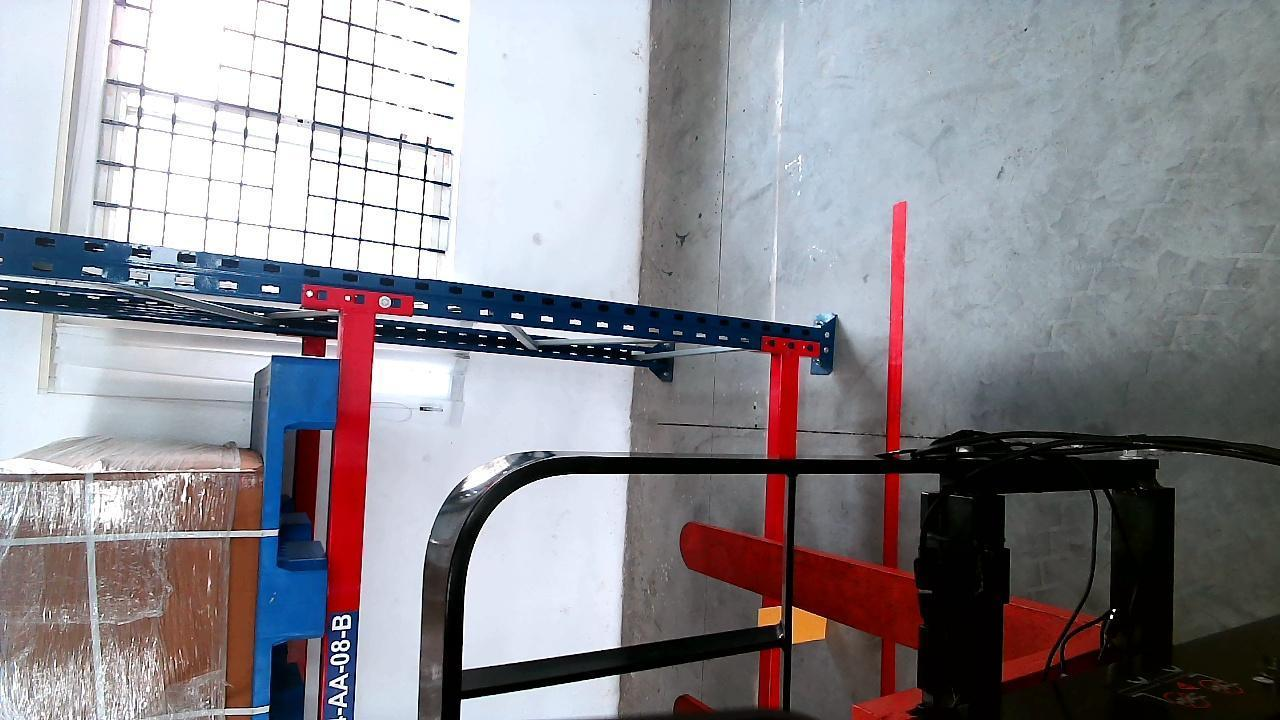h_rack: (318, 306, 377, 720), (759, 351, 802, 711)
orange_strip: (762, 605, 831, 640)
red_line: (880, 203, 908, 701)
small_pallet: (257, 356, 334, 720)
